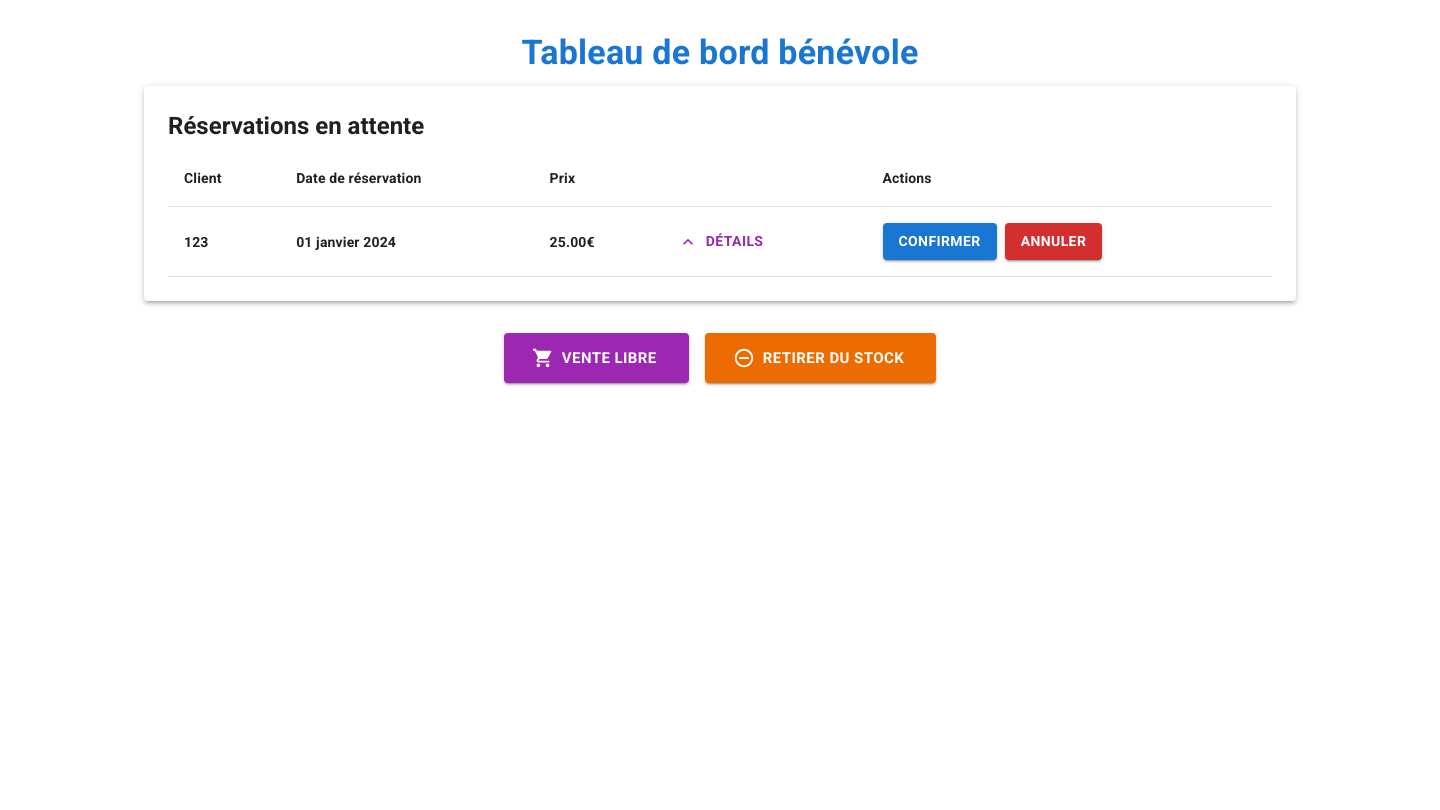
Test: VolunteerHomePage › opens Vente Libre dialog when button is clicked
Click the button "Vente libre": (596, 358) [504,333,689,383]
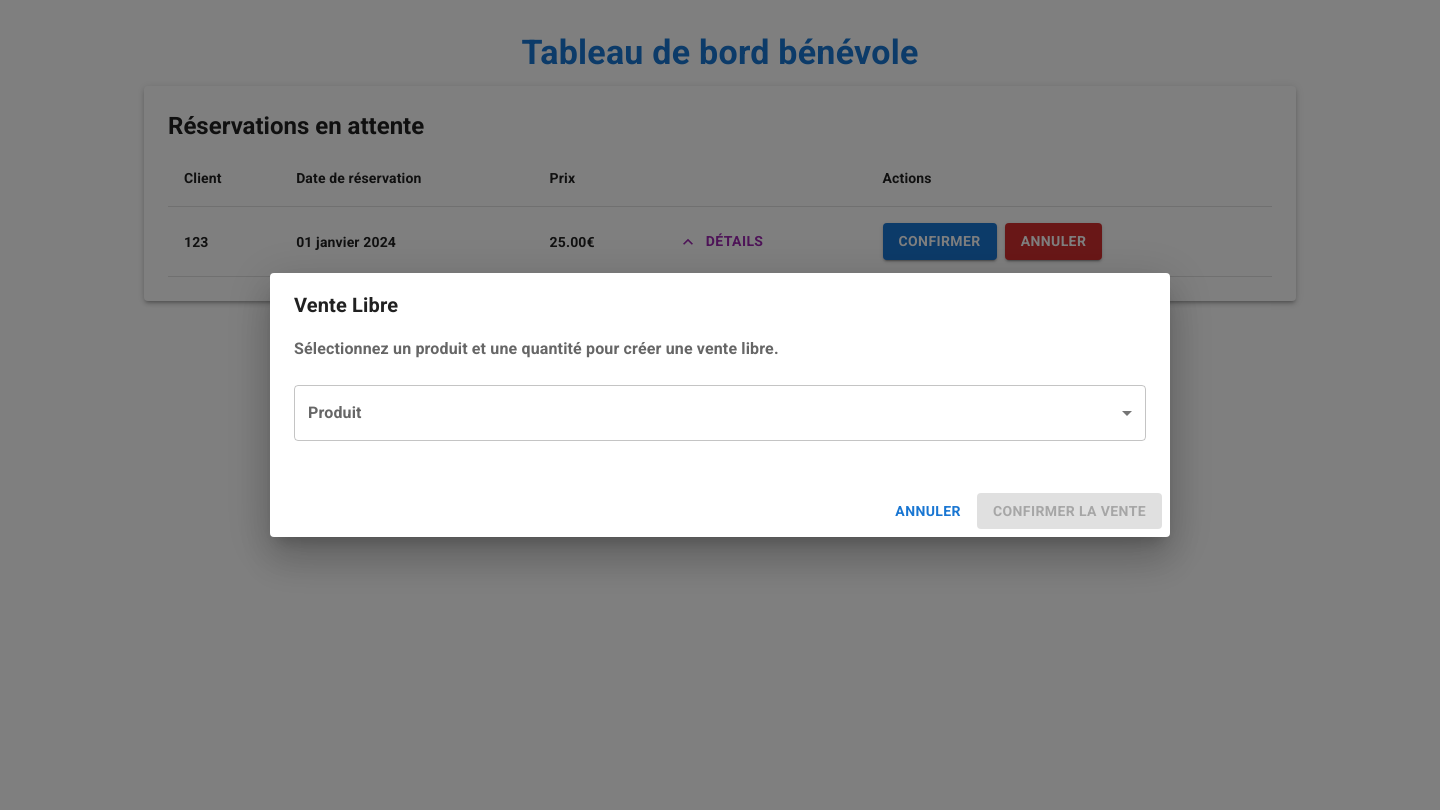
expect the heading "Vente Libre" is shown: met, box [294,293,398,317]
expect the text "Sélectionnez un produit et une quantité" is shown: met, box [294,339,779,358]
